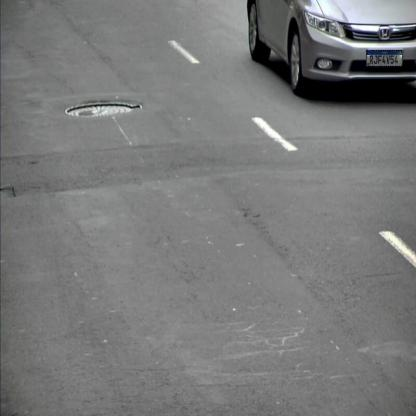PlacaM: (366, 50, 403, 66)
